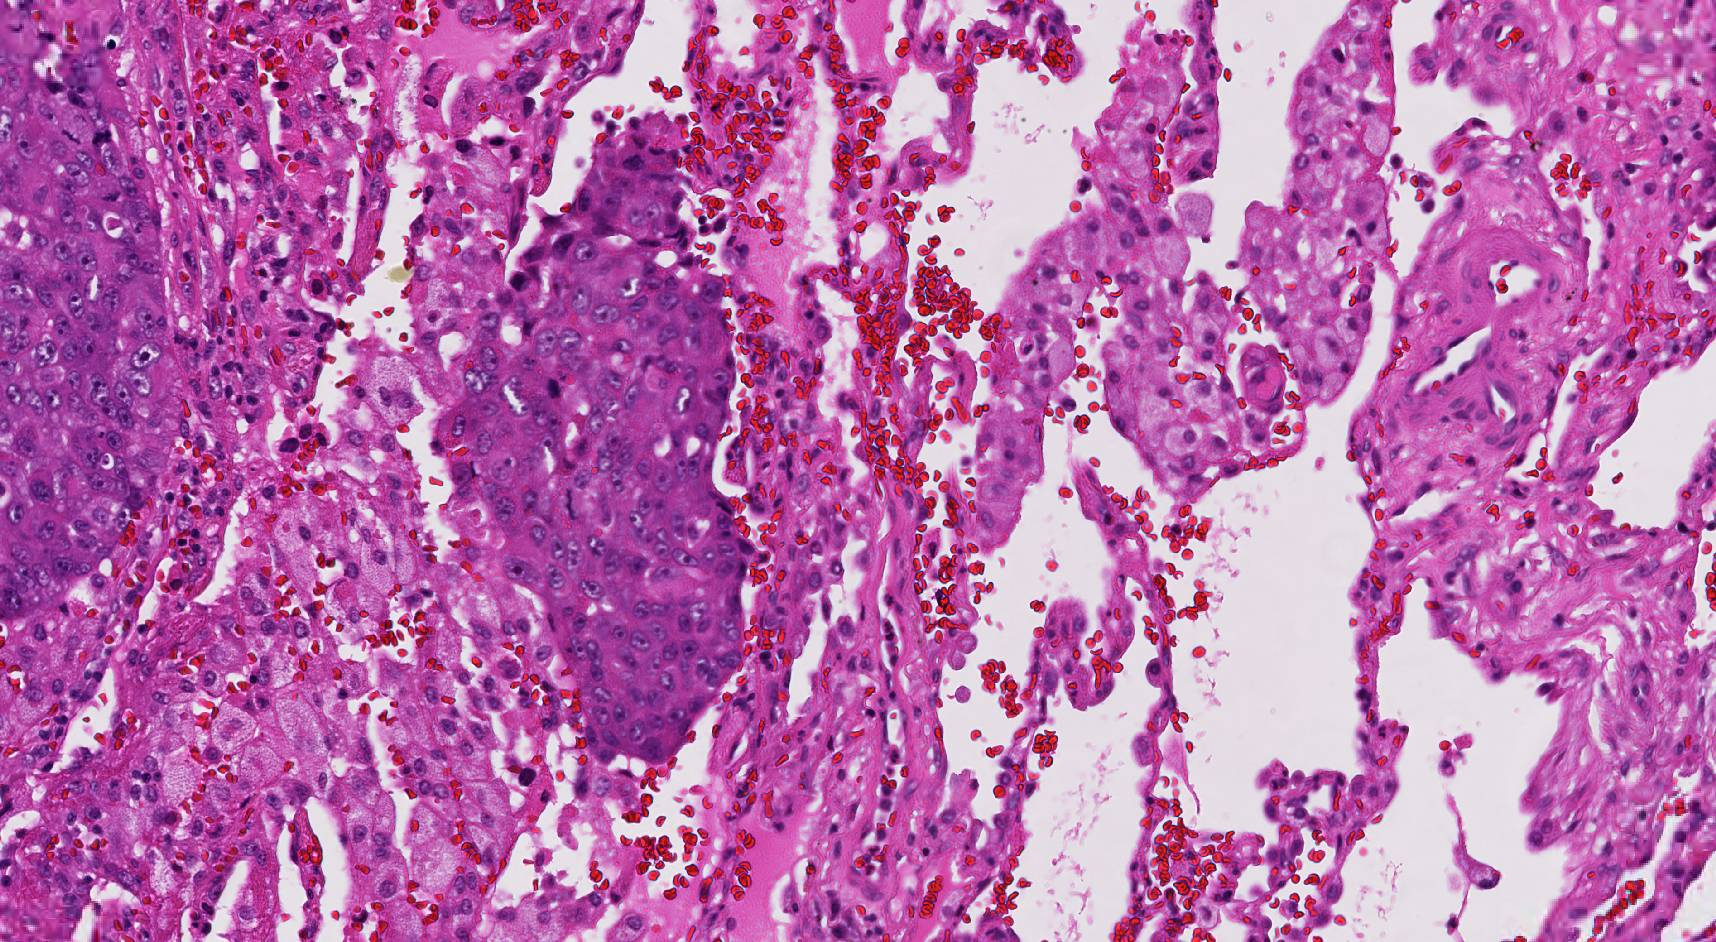stas: (444, 116, 755, 769)
